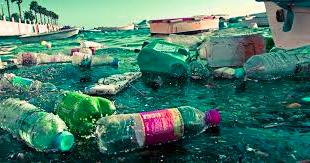Plastic: (92, 97, 226, 156), (1, 99, 88, 154)
